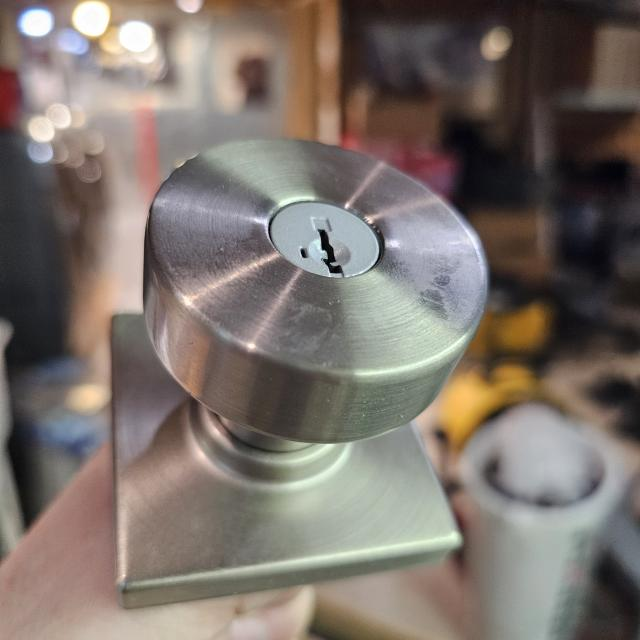door-knob: (112, 140, 488, 608)
